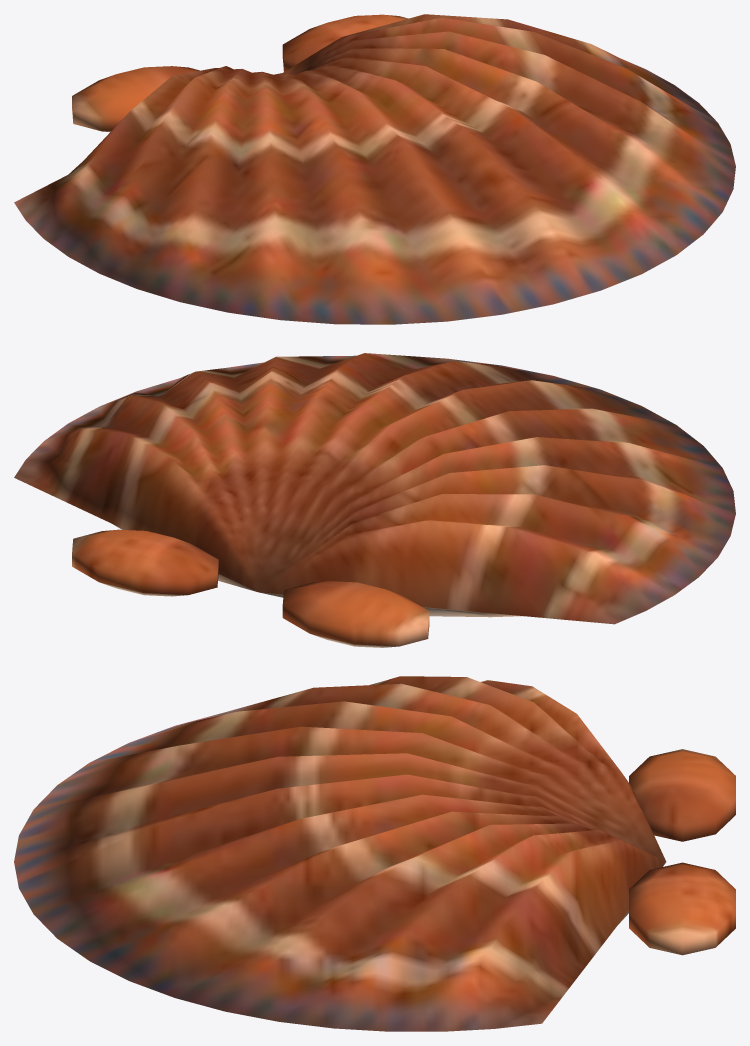
The model's file is shell-scallop.glb.
The picture shows the model from 3 angles, top to bottom: view 1: azimuth 30°, elevation 25°; view 2: azimuth 150°, elevation 25°; view 3: azimuth 270°, elevation 25°; orthographic projection. The views are drawn at different scales.
Parts seen in each view (by area): view 1: shell-scallop; view 2: shell-scallop; view 3: shell-scallop.
Part boxes in pixels (x1,y1,x2,y2): shell-scallop: (14,14,735,324); shell-scallop: (14,353,735,647); shell-scallop: (14,676,735,1031).
Size of the model in its own units: 0.2994 by 0.0523 by 0.2689.
Materials: 1 (1 with a texture image).
